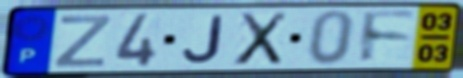0: (302, 8, 360, 68)
4: (113, 12, 160, 70)
F: (359, 9, 419, 67)
J: (180, 14, 226, 65)
X: (231, 10, 290, 68)
Z: (51, 14, 113, 69)
